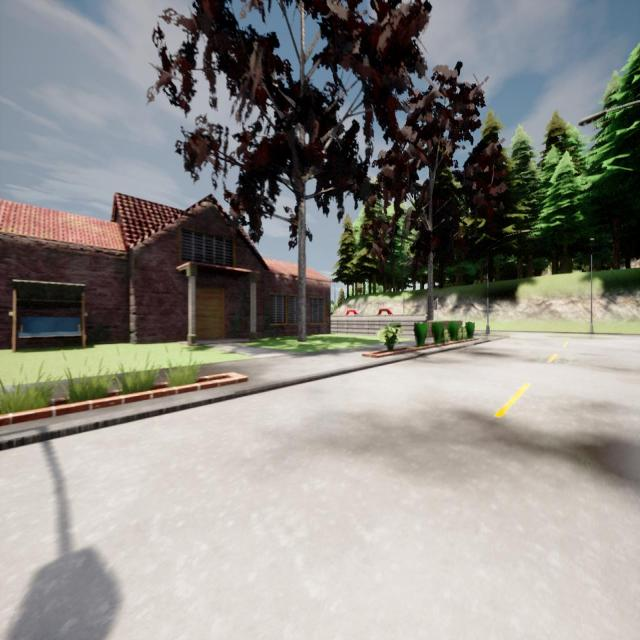traffic_light: (434, 300, 437, 310)
